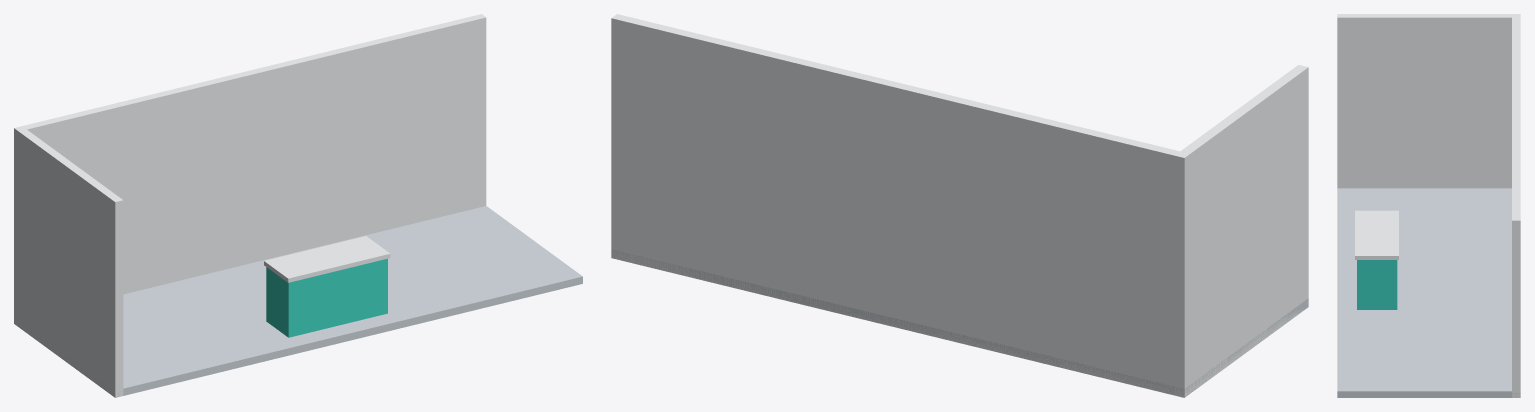
3 views of the same model, side by side, from view 1: azimuth 30°, elevation 25°; view 2: azimuth 150°, elevation 25°; view 3: azimuth 270°, elevation 25° (orthographic). The views are drawn at different scales.
Parts seen in each view (by area): view 1: Exhibition Booth Concept; view 2: Exhibition Booth Concept; view 3: Exhibition Booth Concept.
Part boxes in pixels (box(x1,y1,x2,y2)): Exhibition Booth Concept: box(14, 14, 582, 397); Exhibition Booth Concept: box(611, 14, 1308, 397); Exhibition Booth Concept: box(1337, 14, 1520, 397).
Size of the model in its own units: 8 by 3.2 by 3.
